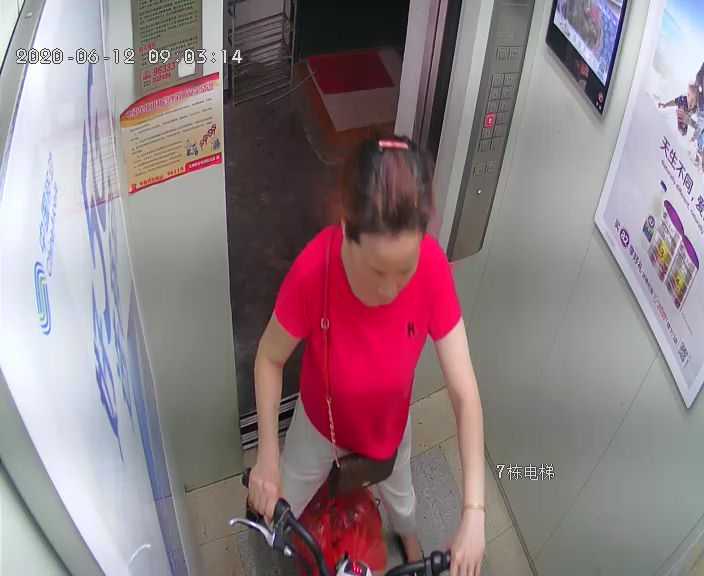Electric-bicycle: (228, 464, 463, 576)
